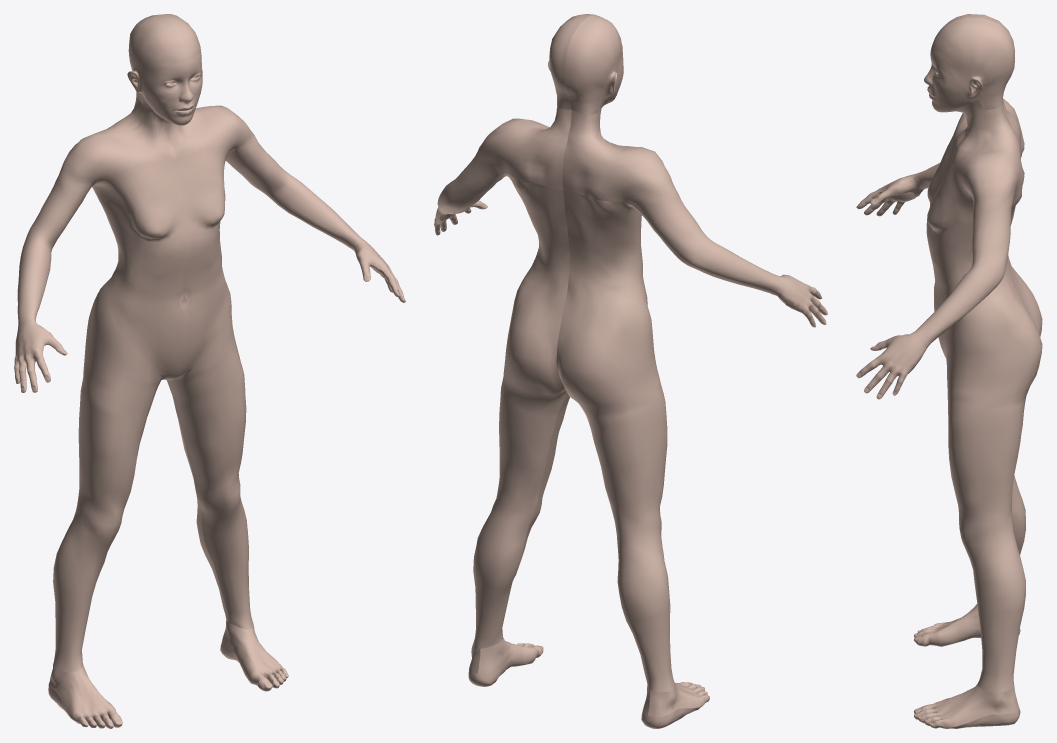
File: makehuman-base-static.glb
3 renders of one model, left to right at view 1: azimuth 30°, elevation 25°; view 2: azimuth 150°, elevation 25°; view 3: azimuth 270°, elevation 25°, orthographic.
Visible parts, largest first — view 1: MakeHuman_CC0_Anatomical_Base_Unrigged; view 2: MakeHuman_CC0_Anatomical_Base_Unrigged; view 3: MakeHuman_CC0_Anatomical_Base_Unrigged.
Part boxes in pixels (<box>): MakeHuman_CC0_Anatomical_Base_Unrigged: <box>14,14,405,728</box>; MakeHuman_CC0_Anatomical_Base_Unrigged: <box>434,14,827,728</box>; MakeHuman_CC0_Anatomical_Base_Unrigged: <box>856,14,1042,728</box>.
Size of the model in its own units: 9.93 by 16.66 by 4.23.
